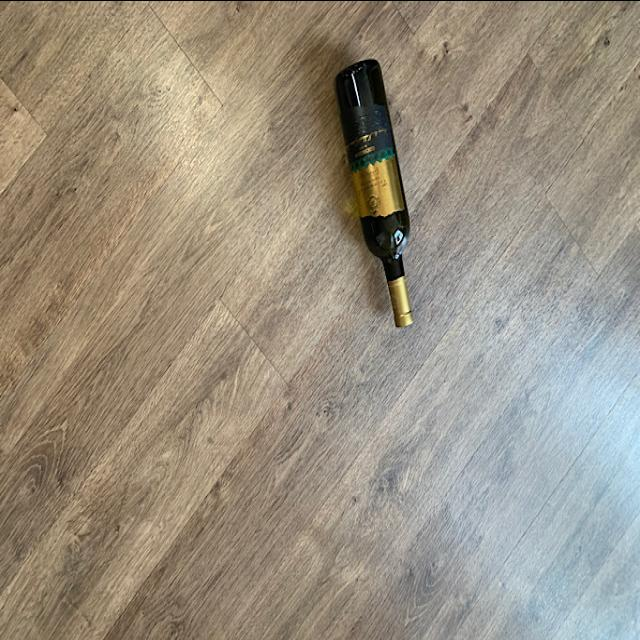litter: (334, 58, 418, 332)
